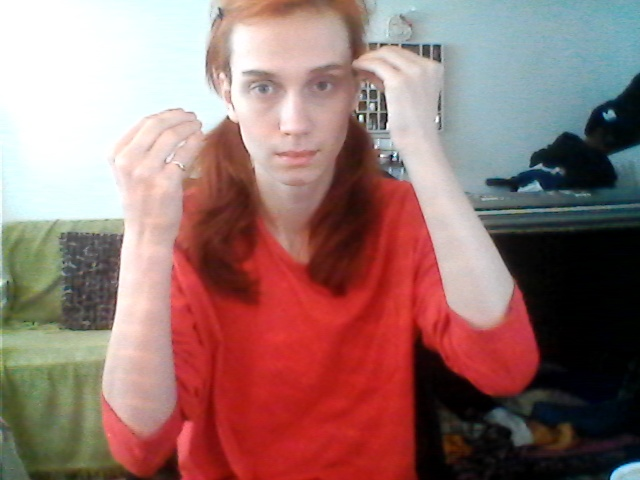ucit: (123, 32, 453, 150)
